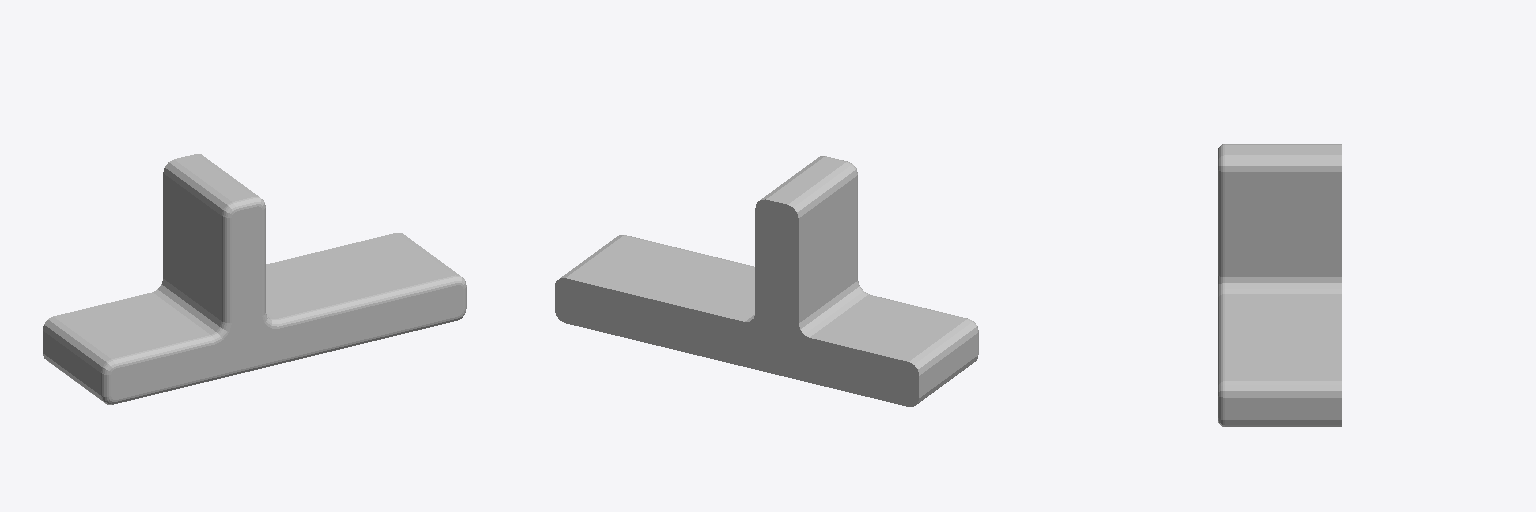
File: 2_Long_UpsideDown_T_Mirror.obj
3 views of the same model, side by side, from view 1: azimuth 30°, elevation 25°; view 2: azimuth 150°, elevation 25°; view 3: azimuth 270°, elevation 25° (orthographic).
Parts seen in each view (by area): view 1: Long_UpsideDown_T_Mirror_Plane.008; view 2: Long_UpsideDown_T_Mirror_Plane.008; view 3: Long_UpsideDown_T_Mirror_Plane.008.
Part boxes in pixels (x1,y1,x2,y2): Long_UpsideDown_T_Mirror_Plane.008: (43,154,466,404); Long_UpsideDown_T_Mirror_Plane.008: (555,156,978,406); Long_UpsideDown_T_Mirror_Plane.008: (1218,144,1341,426).
Bounding box in the file's own units: 16.95 × 7.67 × 5.